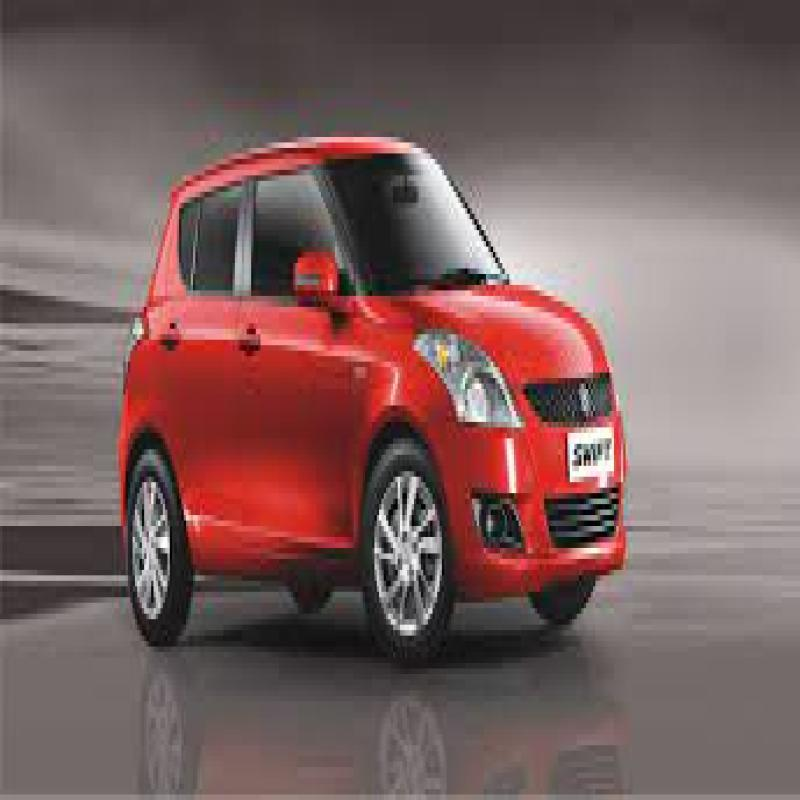car: (117, 114, 629, 644)
